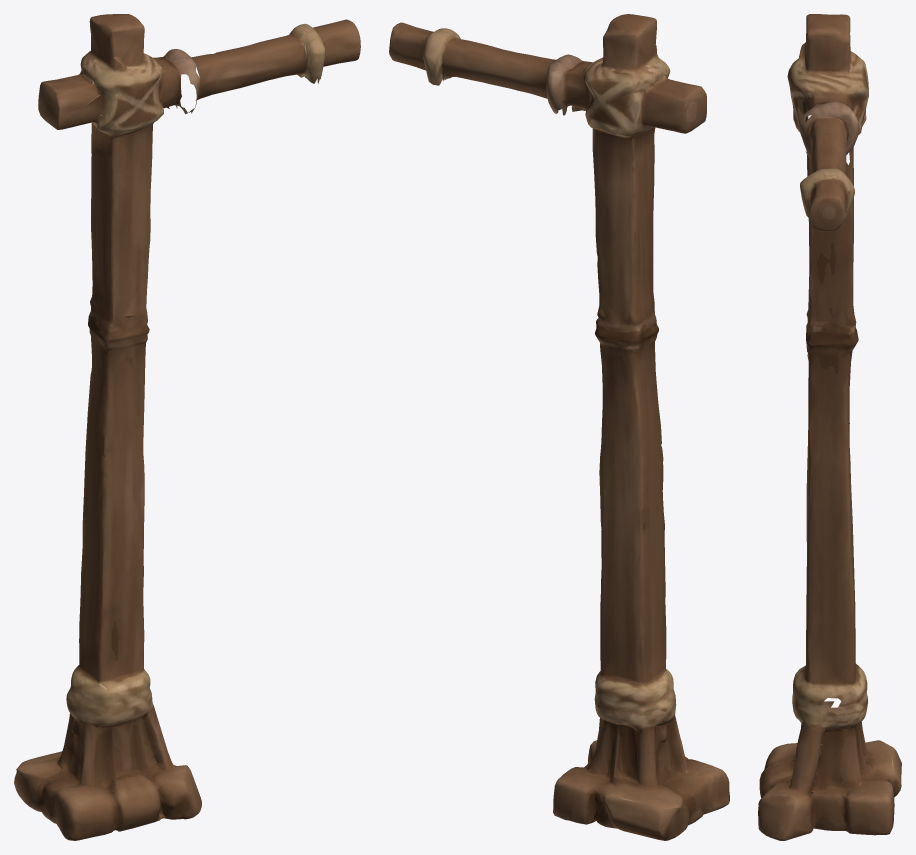
Rendered from BannerPostTattered.glb.
3 renders of one model, left to right at view 1: azimuth 30°, elevation 25°; view 2: azimuth 150°, elevation 25°; view 3: azimuth 270°, elevation 25°, orthographic.
Parts seen in each view (by area): view 1: BannerPostTattered; view 2: BannerPostTattered; view 3: BannerPostTattered.
Boxes of the visible parts, <box> form: BannerPostTattered: <box>14,14,360,840</box>; BannerPostTattered: <box>389,14,729,840</box>; BannerPostTattered: <box>758,14,901,840</box>.
Size of the model in its own units: 1.29 by 3.12 by 0.5136.
1 material, 1 textured.
